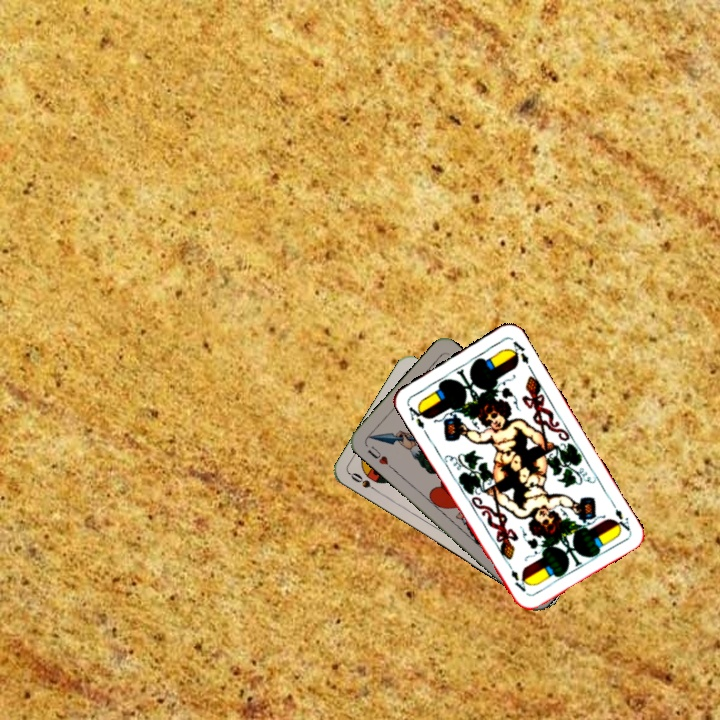EA: (607, 497, 633, 534), (403, 400, 429, 431)
HU: (363, 442, 396, 472)
SO: (346, 468, 383, 496)
